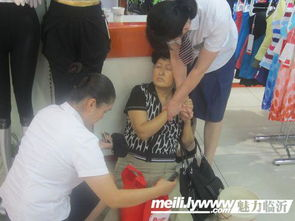fall: (97, 43, 201, 221)
